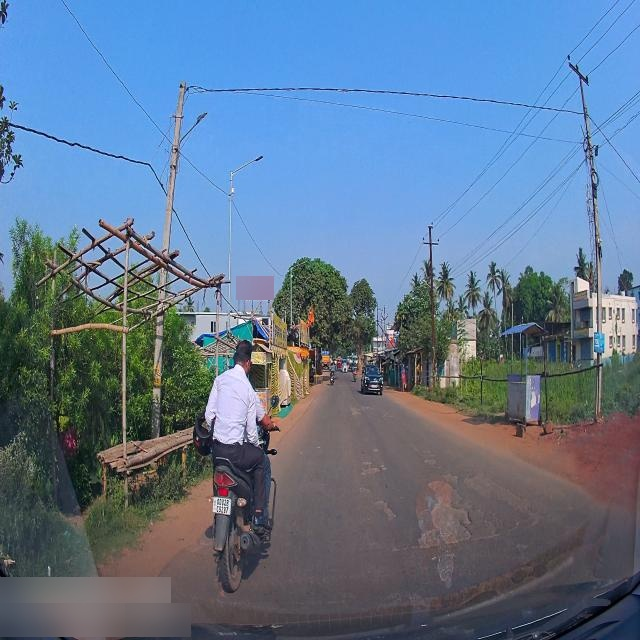pothole: (375, 495, 397, 522), (361, 460, 383, 478), (442, 469, 460, 487), (358, 481, 372, 497), (420, 456, 438, 464)
